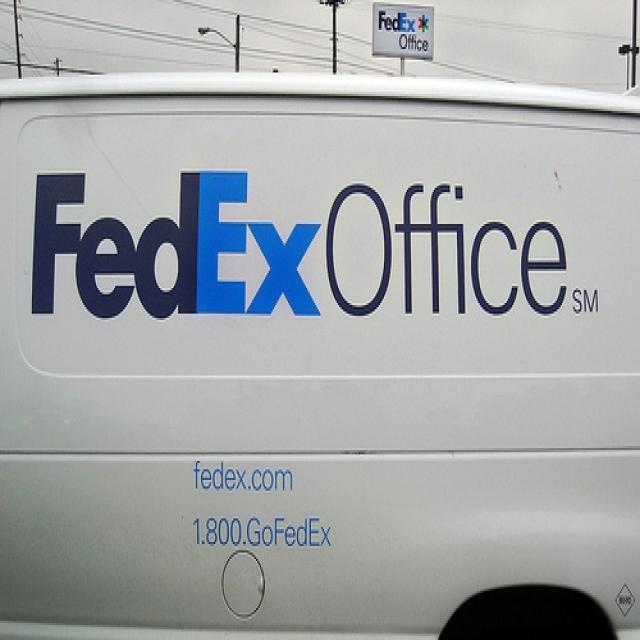fedex: (23, 157, 330, 325)
